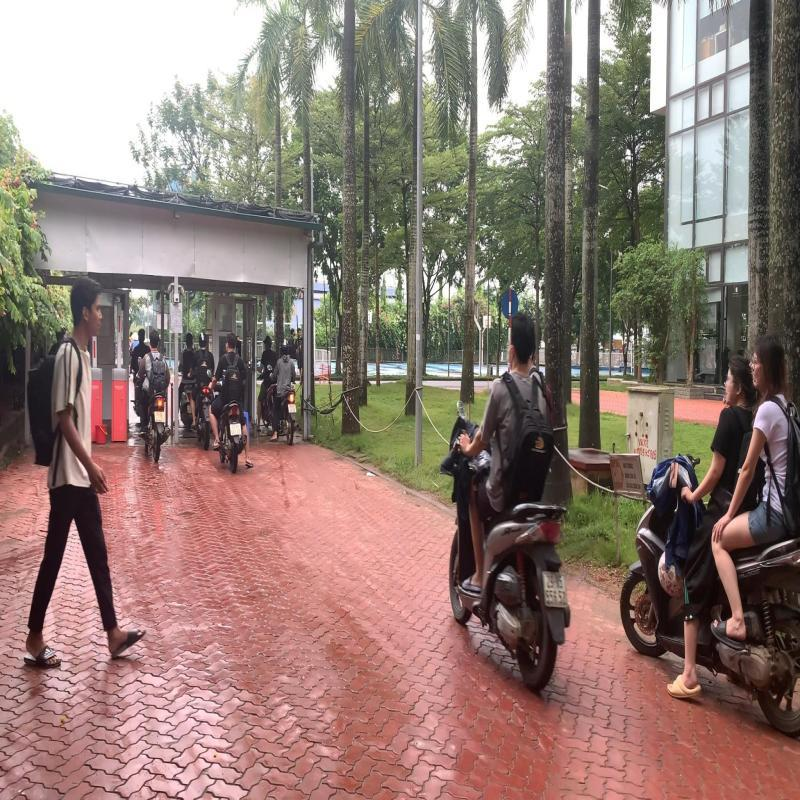nohelmet: (720, 350, 756, 408), (751, 334, 785, 394), (507, 311, 537, 370)
